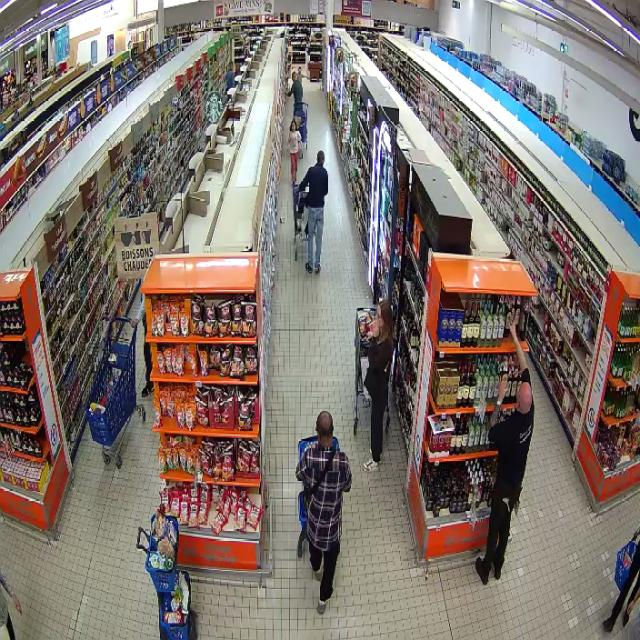article: (504, 296, 512, 337)
hands: (497, 377, 508, 399), (372, 318, 380, 337), (510, 320, 517, 339)
person: (475, 323, 534, 584), (295, 411, 351, 613), (363, 300, 393, 469), (299, 151, 327, 272)
